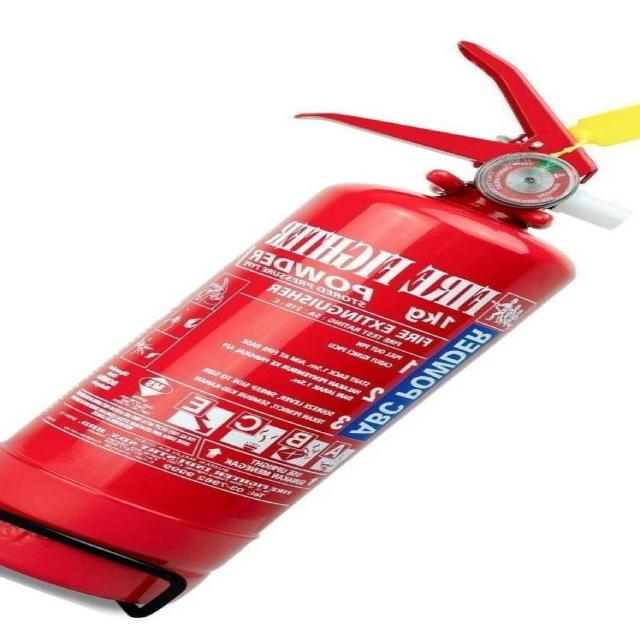fire_extinguisher: (0, 38, 638, 610)
